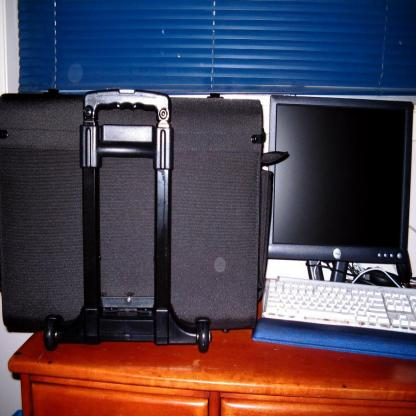board: (261, 95, 416, 336)
